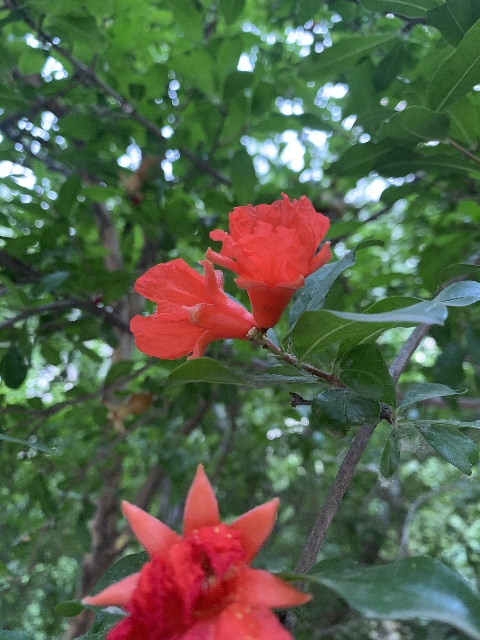early-fruit: (118, 157, 161, 206), (102, 392, 151, 433)
flower: (85, 461, 313, 640), (205, 190, 332, 330), (128, 257, 258, 360)
